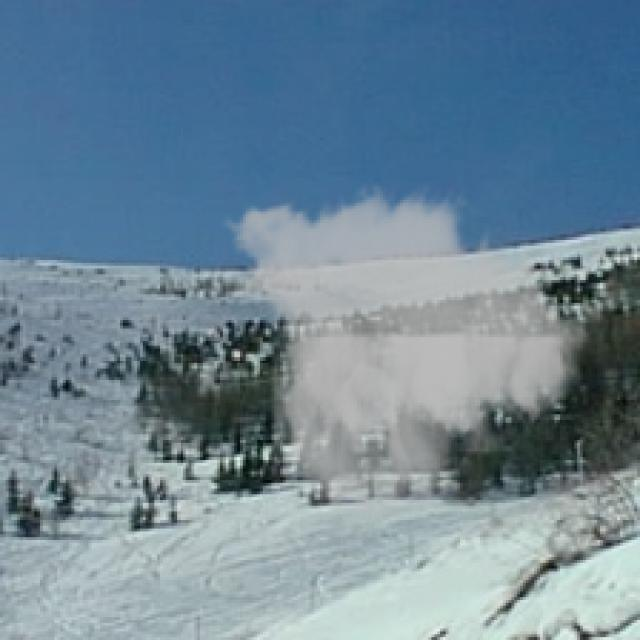Smoke: (215, 180, 600, 534)
